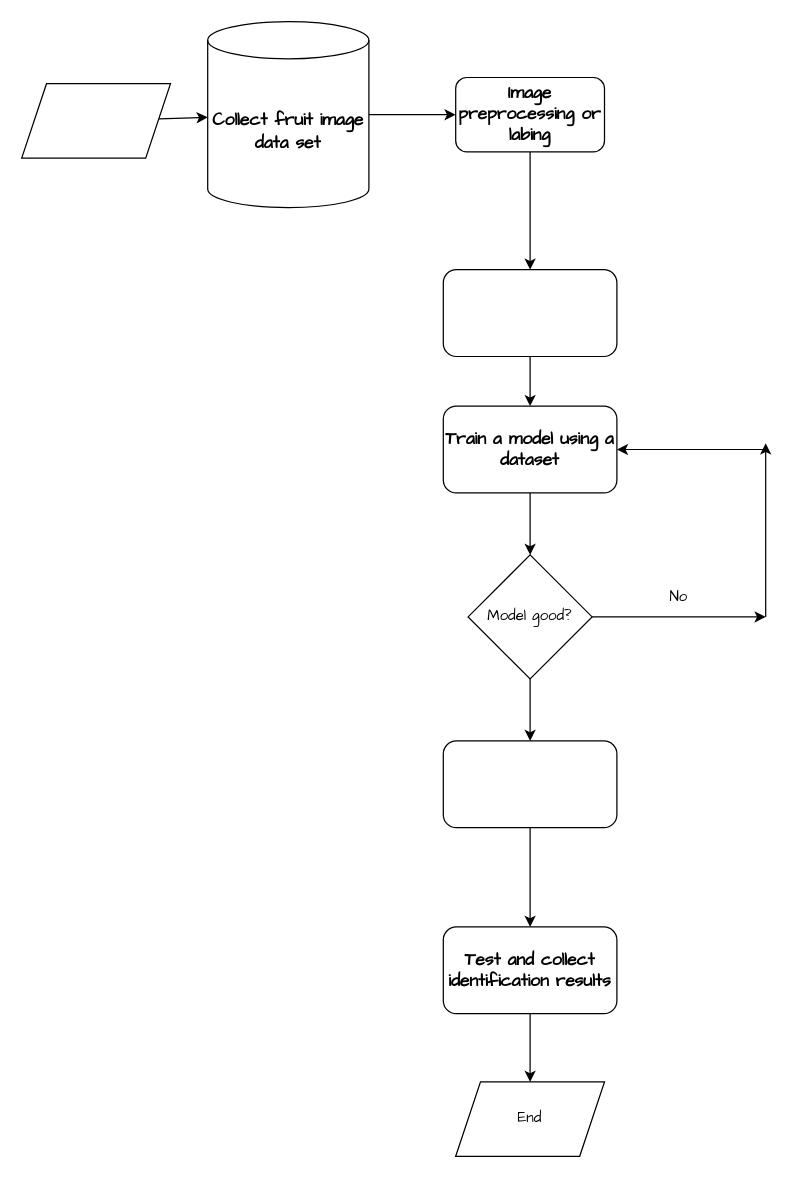
This 797x1178 diagram has some shape labels left out. The box of each missing label's shape, as (x1, y1, x2, y2) in pixels:
Design or select an initial CNN model architecture: (442, 268, 617, 356)
Start: (20, 82, 170, 158)
Weight detection and calorie calculation: (442, 740, 617, 828)
